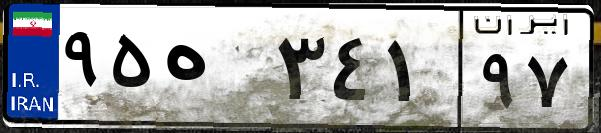1: (385, 28, 445, 110)
3: (270, 28, 330, 110)
4: (330, 28, 385, 110)
5: (110, 28, 158, 98)
7: (525, 38, 570, 115)
9: (57, 26, 110, 100), (475, 38, 525, 113)
ه: (158, 20, 270, 120)
